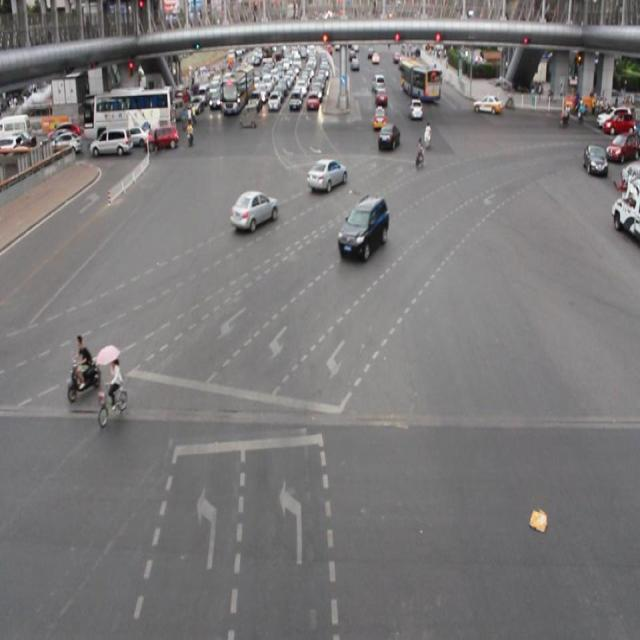BigCar: (221, 72, 246, 116)
car: (337, 192, 390, 270), (228, 191, 277, 233), (307, 151, 346, 192), (91, 125, 132, 156), (142, 119, 178, 151), (609, 126, 639, 161), (582, 143, 608, 182), (474, 89, 504, 118), (379, 119, 400, 151), (266, 86, 283, 115), (408, 95, 425, 122), (305, 90, 320, 115), (290, 88, 304, 111), (209, 89, 221, 107)
